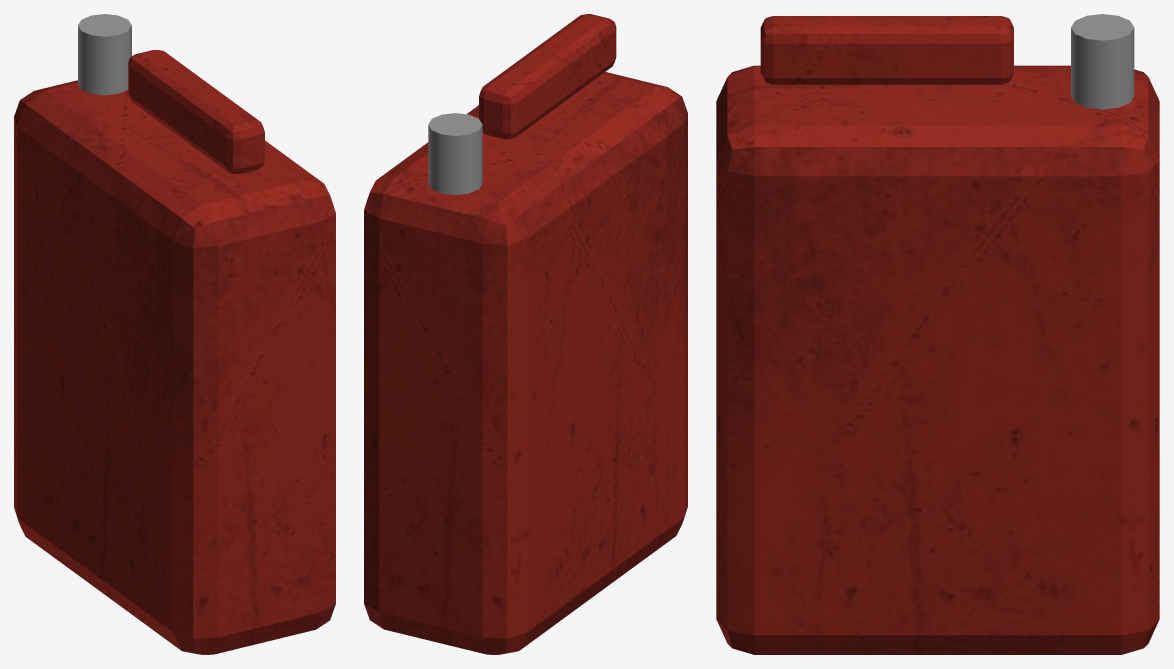
The model's file is jerrycan.glb.
3 renders of one model, left to right at view 1: azimuth 30°, elevation 25°; view 2: azimuth 150°, elevation 25°; view 3: azimuth 270°, elevation 25°, orthographic. The views are drawn at different scales.
Parts seen in each view (by area): view 1: Body; view 2: Body; view 3: Body.
Part boxes in pixels (left/top/right/bottom): Body: left=14, top=14, right=335, bottom=654; Body: left=364, top=14, right=687, bottom=654; Body: left=716, top=14, right=1159, bottom=654.
Bounding box in the file's own units: 0.17 × 0.525 × 0.35.
Materials: 2 (1 with a texture image).
